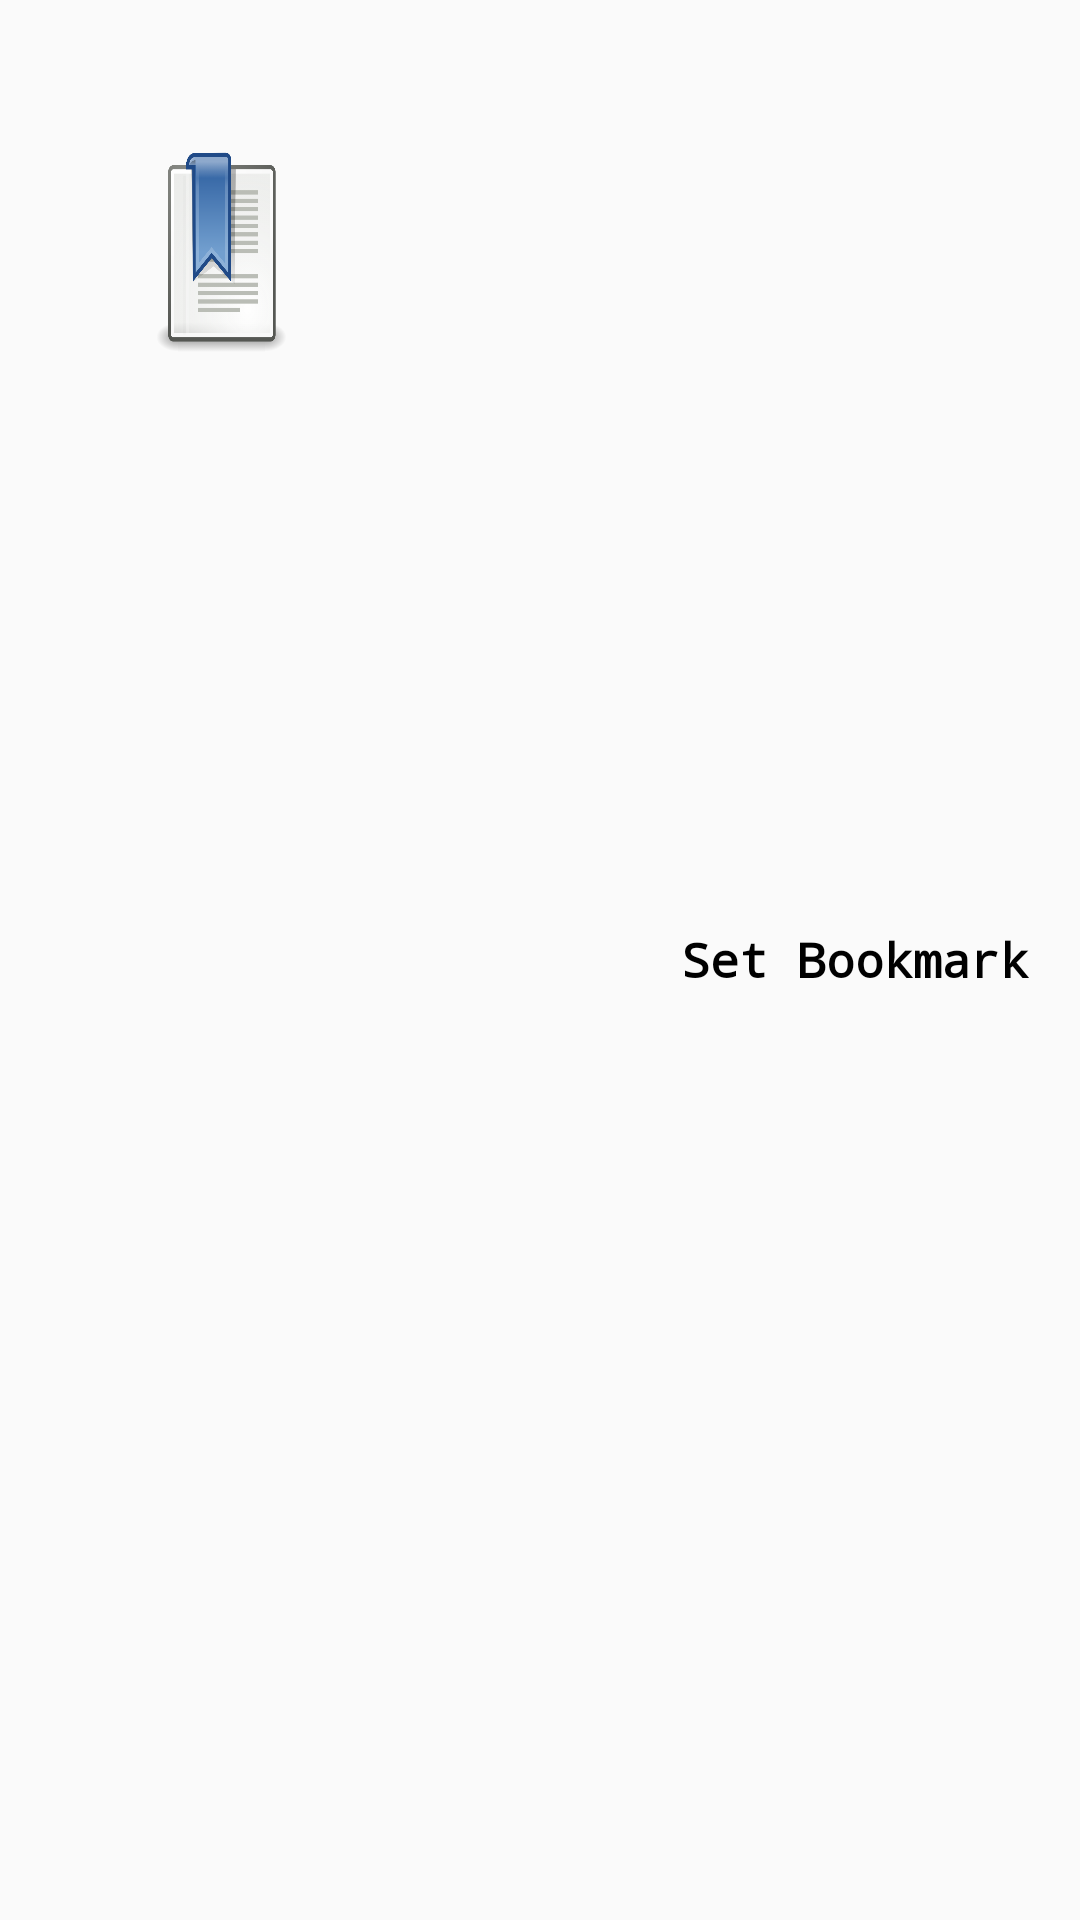

Locate icon controls on the screen. Image size 1080×1920, boxes as (x1, y1, x2, y2).
bookmark: (162, 152, 281, 348)
